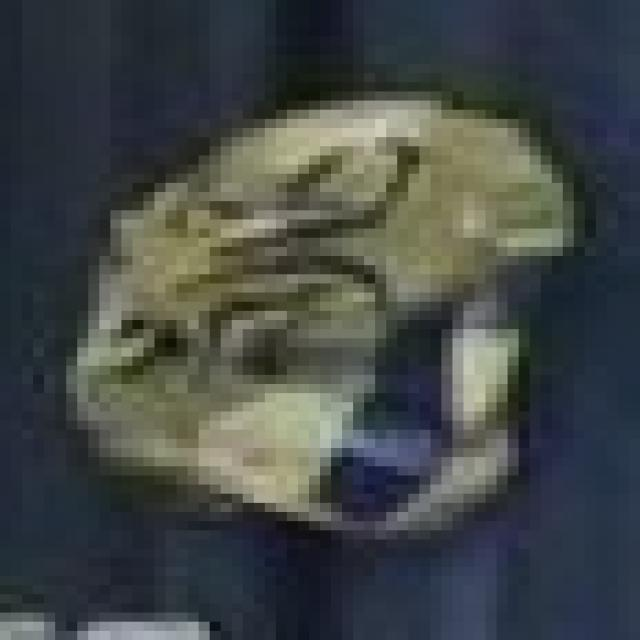can: (0, 84, 572, 579)
